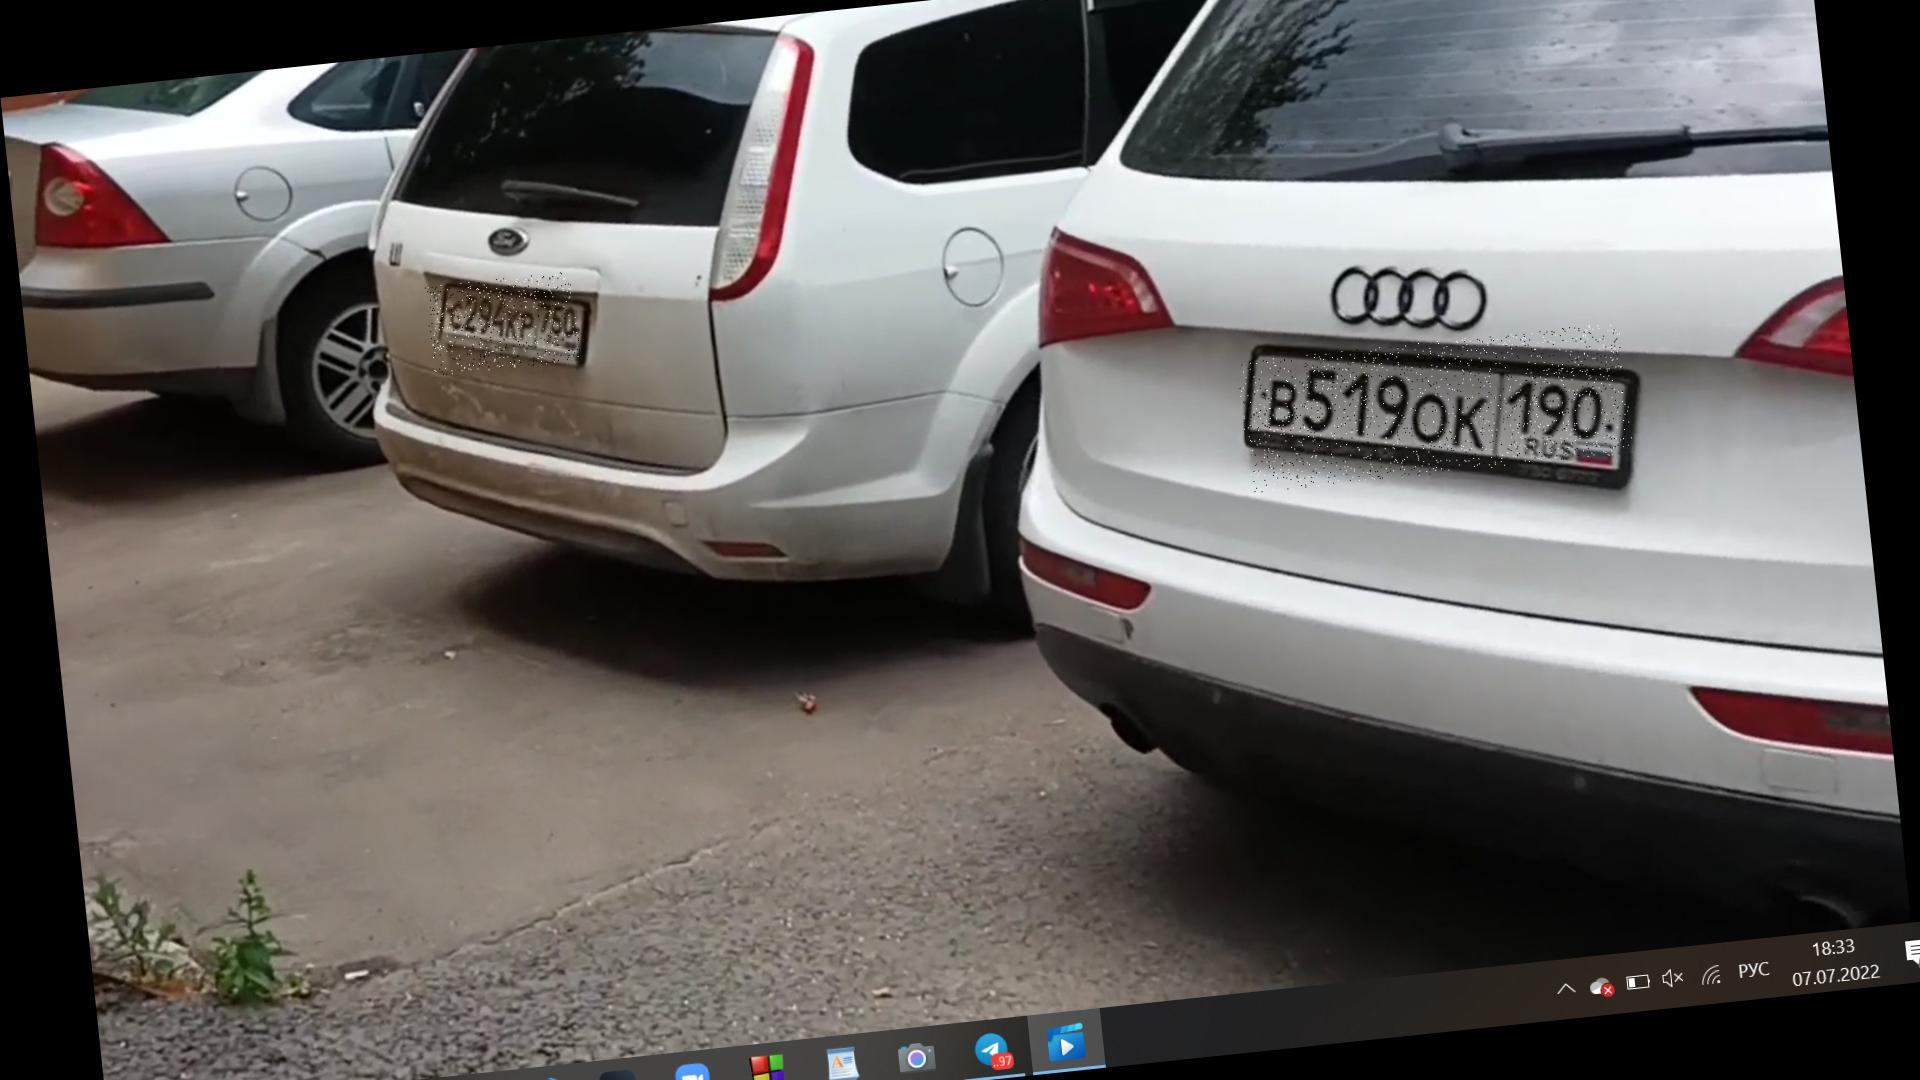plate: (1239, 323, 1636, 494), (426, 272, 583, 377)
